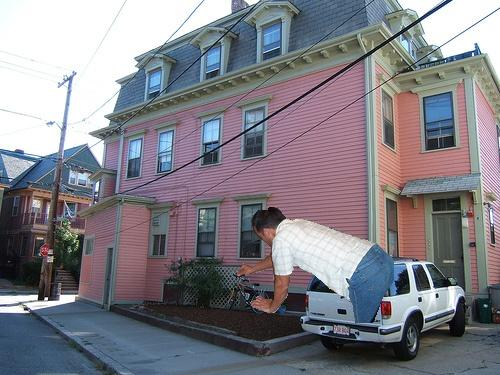tampered: (238, 208, 394, 323)
